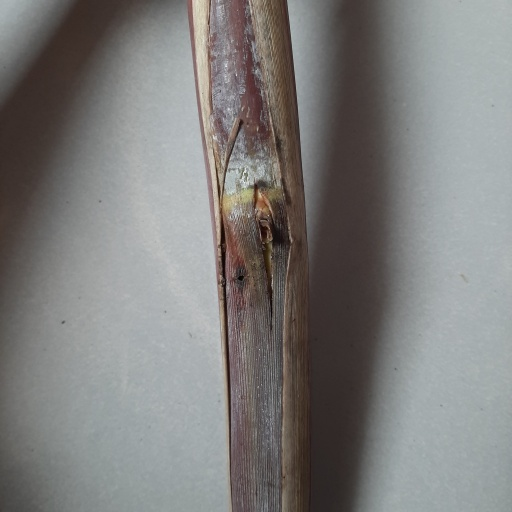Damage_Bud: (250, 194, 280, 282)
